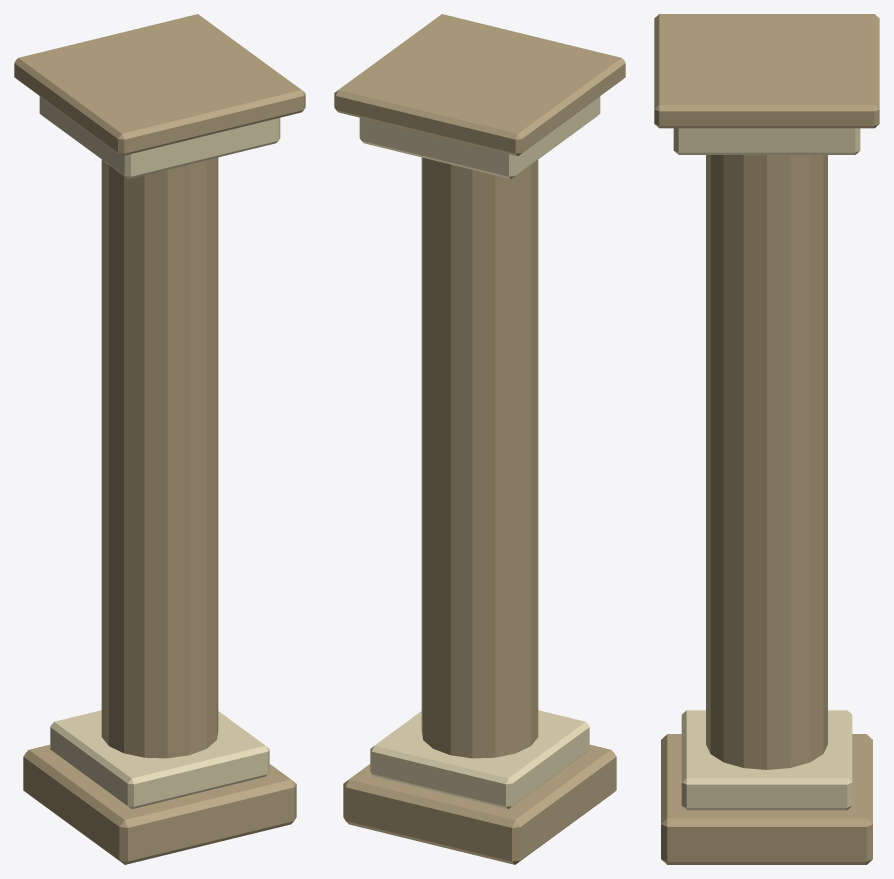
File: column.glb
3 views of the same model, side by side, from view 1: azimuth 30°, elevation 25°; view 2: azimuth 150°, elevation 25°; view 3: azimuth 270°, elevation 25° (orthographic). The views are drawn at different scales.
Parts seen in each view (by area): view 1: Cylinder, Abacus, Column foot, Column plinth, Capital; view 2: Cylinder, Abacus, Column foot, Column plinth, Capital; view 3: Cylinder, Abacus, Column foot, Column plinth, Capital.
Boxes of the visible parts, x1=… form: Cylinder: x1=101, y1=157, x2=218, y2=758; Abacus: x1=14, y1=14, x2=305, y2=156; Column foot: x1=23, y1=744, x2=296, y2=864; Column plinth: x1=50, y1=710, x2=269, y2=809; Capital: x1=39, y1=96, x2=280, y2=178; Cylinder: x1=421, y1=157, x2=538, y2=758; Abacus: x1=334, y1=14, x2=625, y2=156; Column foot: x1=343, y1=744, x2=616, y2=864; Column plinth: x1=370, y1=710, x2=589, y2=809; Capital: x1=359, y1=96, x2=600, y2=178; Cylinder: x1=706, y1=155, x2=827, y2=769; Abacus: x1=654, y1=14, x2=879, y2=128; Column foot: x1=661, y1=734, x2=872, y2=864; Column plinth: x1=681, y1=710, x2=852, y2=810; Capital: x1=673, y1=128, x2=860, y2=154.
Bounding box in the file's own units: 140 × 524 × 140.
